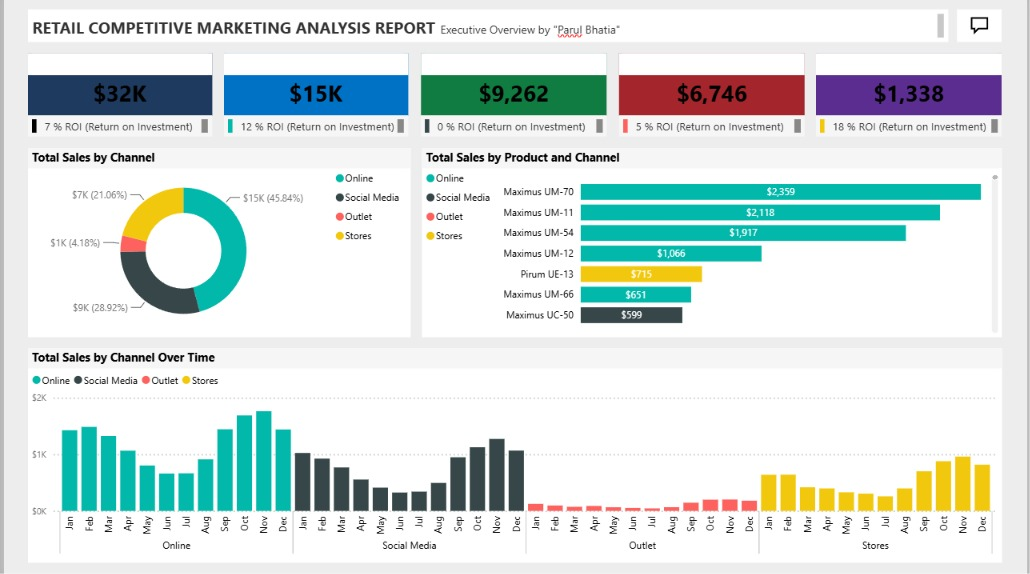

The dashboard page shown, as its layout file describes it:
{"tool":"powerbi","page":{"name":"Executive Overview","canvas":[1279,720],"ordinal":0},"visuals":[{"type":"textbox","title":"SALES AND MARKETING","box":[30.2,13.9,1150.1,40.7],"z":0},{"type":"card","title":"Total Revenue","fields":{"Values":["KPI.KPI01"]},"box":[30.2,68.5,230,77.8],"z":1000},{"type":"actionButton","box":[1191.9,13.9,55.8,40.7],"z":24000},{"type":"lineStackedColumnComboChart","title":"Total Sales by Channel Over Time","fields":{"Category":["Category.Channel","Date.Months"],"Y":["SalesFact.Total Category Volume"],"Series":["Category.Channel"]},"box":[30.2,438,1217.4,268.3],"z":25000},{"type":"card","title":"Online Revenue","fields":{"Values":["KPI.KPI01"]},"box":[275.3,68.5,230,77.8],"z":29000},{"type":"card","title":"Social Media Revenue","fields":{"Values":["KPI.KPI01"]},"box":[521.6,68.5,232.3,77.8],"z":30000},{"type":"card","title":"Store Revenue","fields":{"Values":["KPI.KPI01"]},"box":[769,68.5,232.3,77.8],"z":31000},{"type":"card","title":"Outlet Revenue","fields":{"Values":["KPI.KPI01"]},"box":[1015.3,68.5,232.3,77.8],"z":32000},{"type":"donutChart","fields":{"Category":["Category.Channel"],"Y":["SalesFact.Total Category Volume"]},"box":[29.9,187,478,236.3],"z":33000},{"type":"barChart","title":"Total Sales by Product and Channel","fields":{"Category":["Product.Product"],"Y":["SalesFact.Total Category Volume"],"Series":["Category.Channel"]},"box":[522.8,187,724.9,235.8],"z":34000},{"type":"multiRowCard","fields":{"Values":["KPI.KPI01"]},"box":[30.2,146.4,230,26.7],"z":35000},{"type":"multiRowCard","fields":{"Values":["KPI.KPI01"]},"box":[275.3,146.4,230,26.7],"z":36000},{"type":"multiRowCard","fields":{"Values":["KPI.KPI01"]},"box":[521.6,146.4,232.3,26.7],"z":37000},{"type":"multiRowCard","fields":{"Values":["KPI.KPI01"]},"box":[769,146.4,232.3,26.7],"z":38000},{"type":"multiRowCard","fields":{"Values":["KPI.KPI01"]},"box":[1015.3,146.4,232.3,26.7],"z":39000}]}

Visuals, with their boxes in screenshot pixels (x1, y1, x2, y2), scaled from the page's 1279x720 canvas onto the 1030x574 screenshot:
"SALES AND MARKETING" textbox: <bbox>24, 11, 951, 44</bbox>
"Total Revenue" card: <bbox>24, 55, 210, 117</bbox>
actionButton: <bbox>960, 11, 1005, 44</bbox>
"Total Sales by Channel Over Time" lineStackedColumnComboChart: <bbox>24, 349, 1005, 563</bbox>
"Online Revenue" card: <bbox>222, 55, 407, 117</bbox>
"Social Media Revenue" card: <bbox>420, 55, 607, 117</bbox>
"Store Revenue" card: <bbox>619, 55, 806, 117</bbox>
"Outlet Revenue" card: <bbox>818, 55, 1005, 117</bbox>
donutChart - Category.Channel x SalesFact.Total Category Volume: <bbox>24, 149, 409, 337</bbox>
"Total Sales by Product and Channel" barChart: <bbox>421, 149, 1005, 337</bbox>
multiRowCard - KPI.KPI01: <bbox>24, 117, 210, 138</bbox>
multiRowCard - KPI.KPI01: <bbox>222, 117, 407, 138</bbox>
multiRowCard - KPI.KPI01: <bbox>420, 117, 607, 138</bbox>
multiRowCard - KPI.KPI01: <bbox>619, 117, 806, 138</bbox>
multiRowCard - KPI.KPI01: <bbox>818, 117, 1005, 138</bbox>
